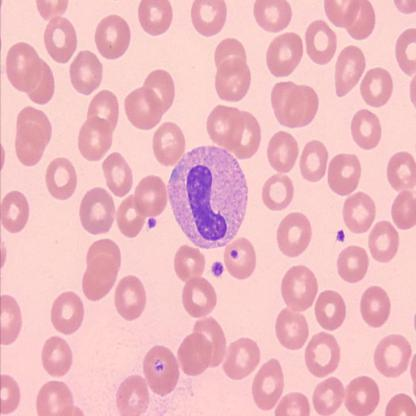Band Neutrophil: (165, 141, 249, 250)
